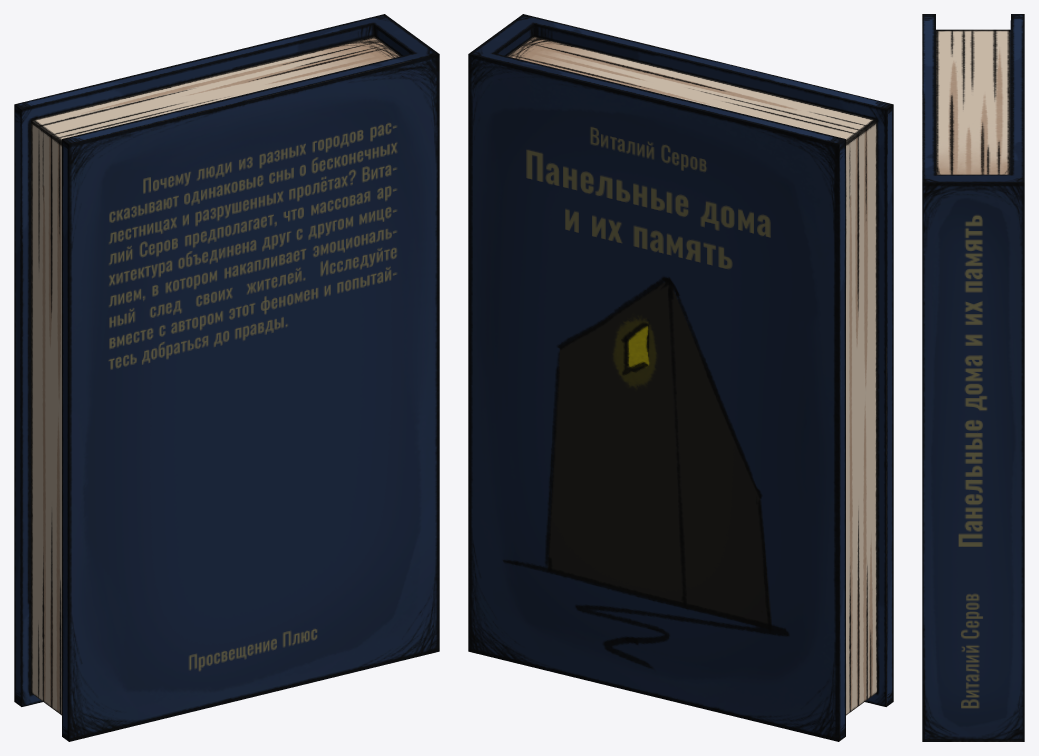
The model's file is book_10.fbx.
3 views of the same model, side by side, from view 1: azimuth 30°, elevation 25°; view 2: azimuth 150°, elevation 25°; view 3: azimuth 270°, elevation 25° (orthographic). The views are drawn at different scales.
Parts seen in each view (by area): view 1: book_1; view 2: book_1; view 3: book_1.
Part boxes in pixels (x1,y1,x2,y2): book_1: (14, 14, 439, 741); book_1: (468, 14, 893, 741); book_1: (922, 14, 1024, 741).
Bounding box in the file's own units: 29.92 × 46.11 × 7.66.
Materials: 1 (1 with a texture image).
